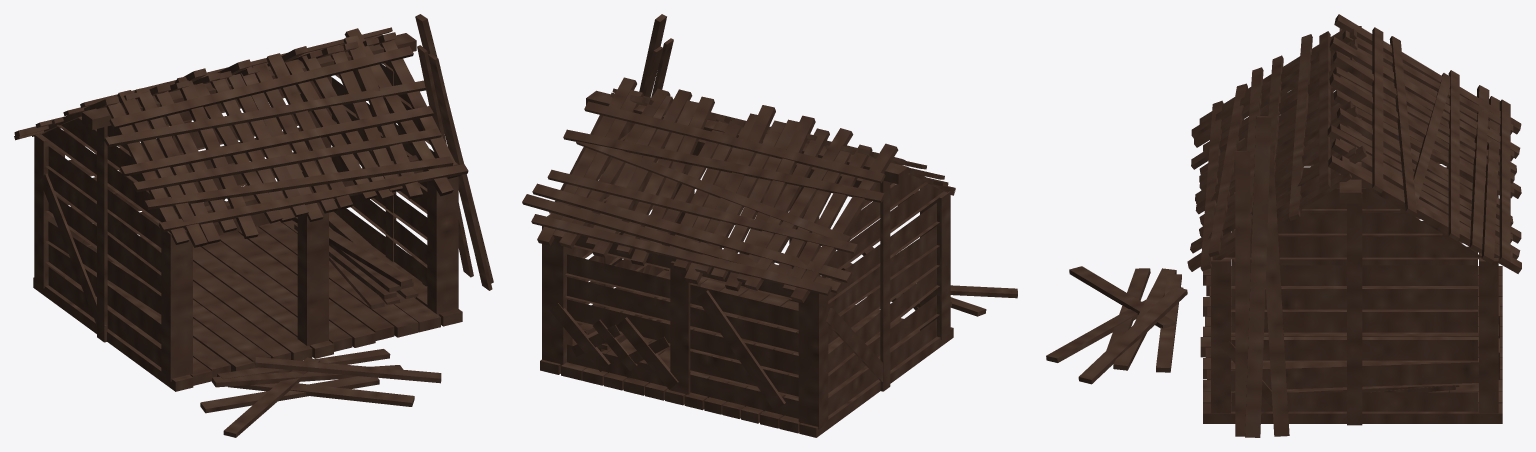
The model's file is Old house.fbx.
3 views of the same model, side by side, from view 1: azimuth 30°, elevation 25°; view 2: azimuth 150°, elevation 25°; view 3: azimuth 270°, elevation 25° (orthographic). The views are drawn at different scales.
Visible parts, largest first — view 1: wooden beam 02.001; view 2: wooden beam 02.001; view 3: wooden beam 02.001.
Boxes of the visible parts, left/top/right/bottom form: wooden beam 02.001: left=14, top=14, right=493, bottom=437; wooden beam 02.001: left=522, top=14, right=1017, bottom=437; wooden beam 02.001: left=1046, top=14, right=1521, bottom=437.
Size of the model in its own units: 267 by 201 by 287.
